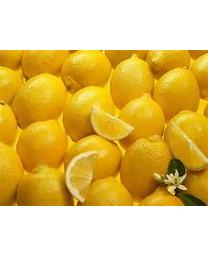lemon: (118, 134, 174, 200), (63, 84, 117, 141), (11, 73, 67, 126), (152, 66, 199, 121), (18, 119, 67, 170), (119, 94, 163, 148), (61, 50, 111, 95), (164, 121, 207, 173), (110, 59, 154, 107), (64, 150, 98, 203), (88, 104, 135, 142)
